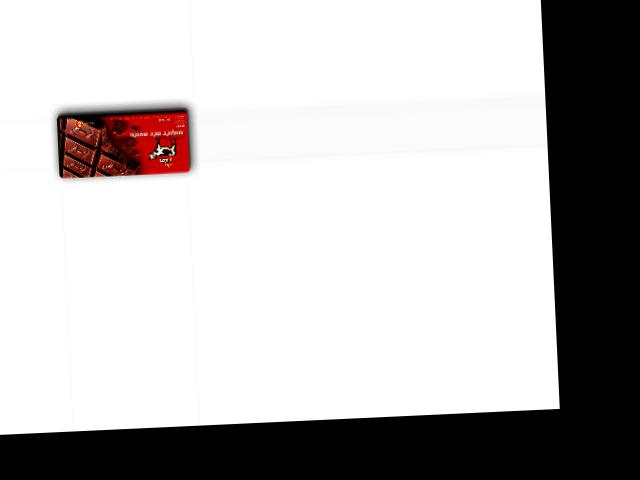chocolate: (54, 105, 193, 181)
